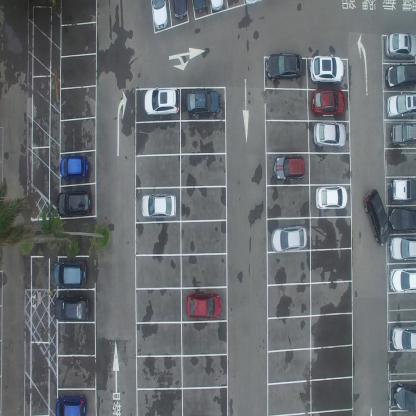car: (364, 186, 390, 246), (264, 51, 303, 81), (309, 53, 344, 85), (270, 225, 307, 255), (311, 87, 345, 118), (144, 87, 180, 116), (384, 29, 416, 60), (57, 188, 92, 216), (52, 260, 87, 288), (186, 291, 221, 319), (140, 193, 176, 220), (53, 294, 89, 321), (272, 154, 306, 182), (314, 121, 346, 150), (186, 90, 220, 117), (314, 184, 348, 210), (386, 91, 416, 119), (386, 64, 416, 90), (392, 380, 416, 412), (388, 205, 416, 232), (59, 155, 89, 180), (389, 235, 416, 262), (390, 265, 416, 293), (391, 323, 416, 352), (390, 176, 416, 203), (54, 394, 86, 415), (390, 122, 416, 146), (150, 0, 167, 31), (173, 0, 187, 23), (209, 0, 224, 14), (193, 0, 206, 15)
